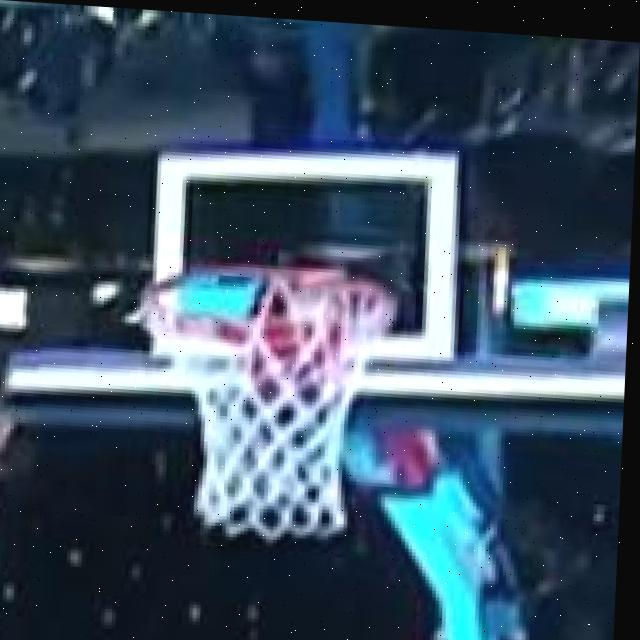hoop: (126, 240, 419, 568)
